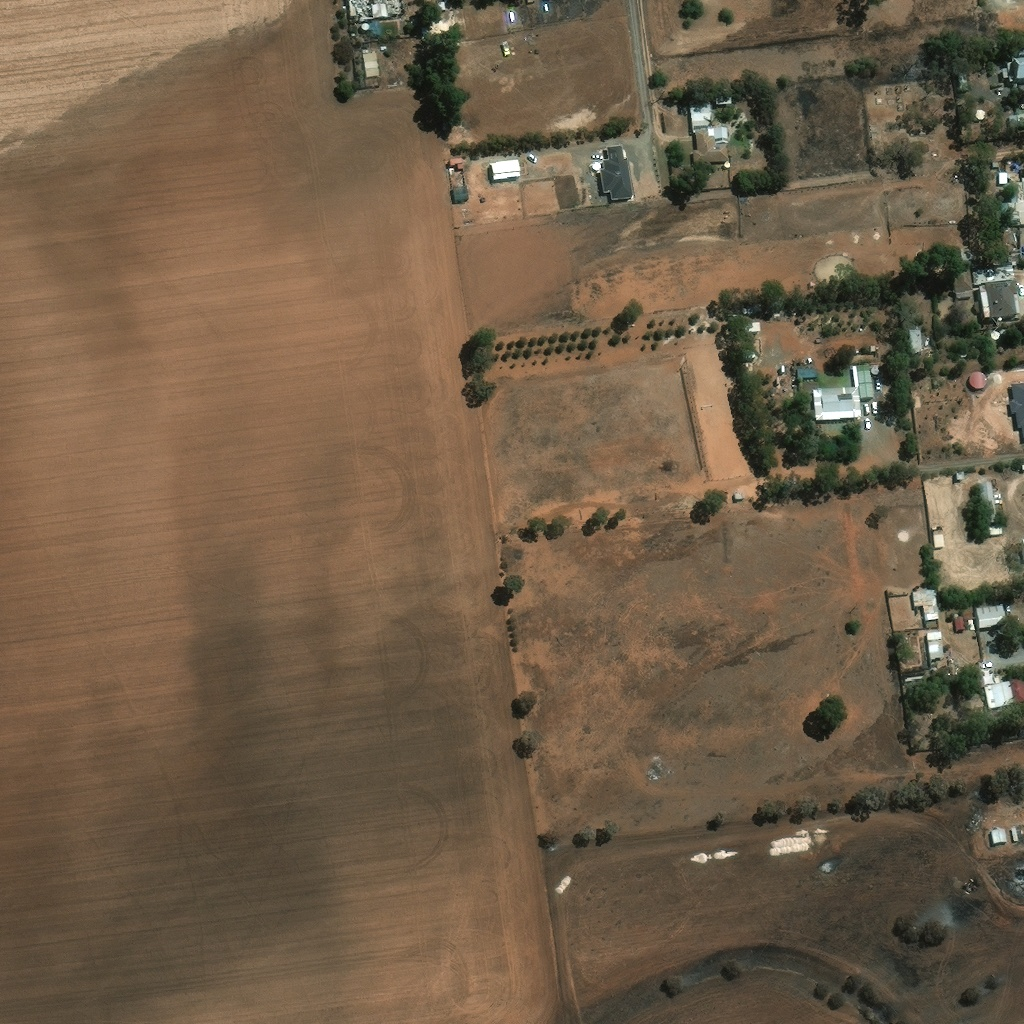0 no-damage: (813, 361, 875, 420), (971, 265, 1023, 322), (981, 666, 1023, 711), (600, 144, 633, 200), (692, 125, 732, 164), (996, 182, 1023, 226), (913, 586, 941, 626), (927, 630, 954, 666), (977, 601, 1009, 626), (981, 480, 998, 525), (491, 158, 523, 177), (691, 105, 716, 126), (363, 19, 382, 38), (911, 326, 925, 350), (992, 827, 1008, 843), (797, 366, 820, 377), (932, 531, 946, 545), (733, 490, 747, 500), (362, 54, 377, 63), (1011, 826, 1020, 840), (744, 324, 762, 331), (988, 526, 1005, 533), (990, 329, 1001, 339), (976, 110, 986, 120), (438, 0, 449, 9), (717, 97, 733, 103), (807, 421, 817, 430), (957, 470, 966, 478), (594, 162, 602, 169), (725, 163, 731, 167)
2 major-damage: (365, 66, 382, 86)
4 un-classified: (1010, 57, 1023, 84), (961, 246, 984, 260), (1007, 113, 1023, 129), (955, 615, 965, 630), (999, 172, 1009, 183), (952, 173, 963, 182), (972, 74, 981, 84), (386, 26, 394, 34), (945, 671, 953, 677), (582, 2, 588, 8), (782, 365, 787, 370), (807, 356, 811, 361)
